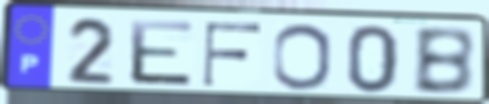0: (344, 23, 402, 96)
2: (65, 16, 118, 87)
B: (411, 25, 478, 97)
E: (127, 18, 197, 89)
F: (200, 20, 265, 89)
O: (270, 22, 334, 93)
